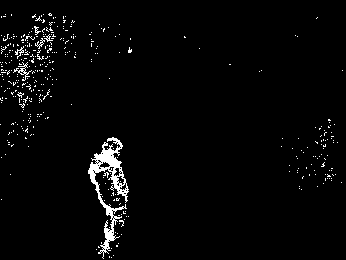person: (87, 135, 130, 260)
